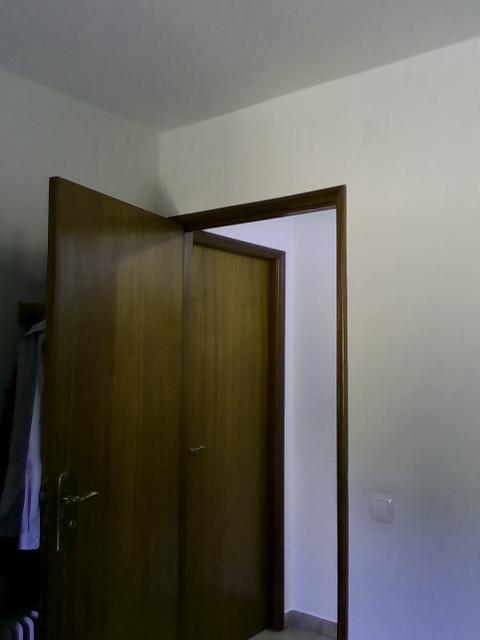open_door: (158, 182, 348, 639)
